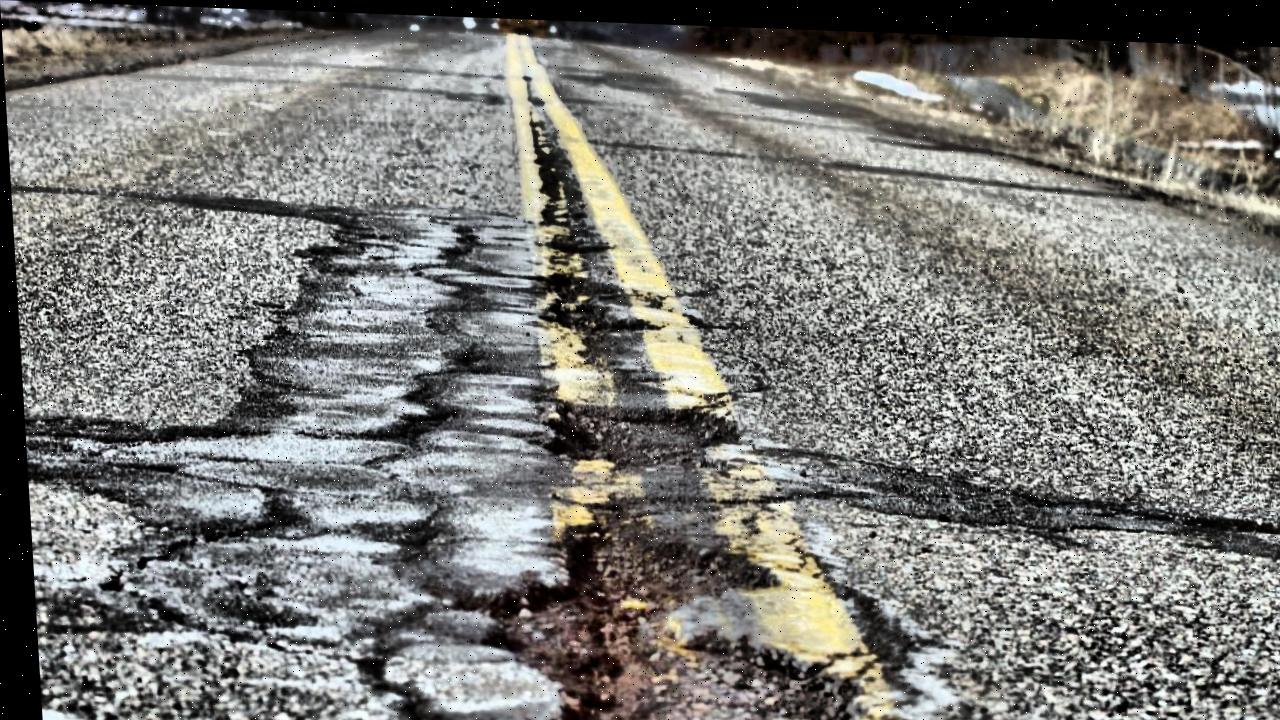pothole: (459, 518, 870, 720), (530, 387, 741, 476), (525, 263, 661, 344), (526, 113, 573, 251)
